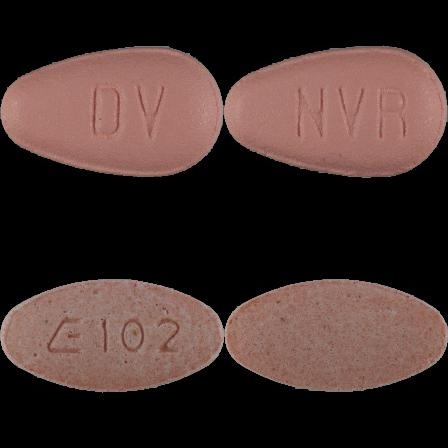54868-4652: (0, 0, 224, 224)
